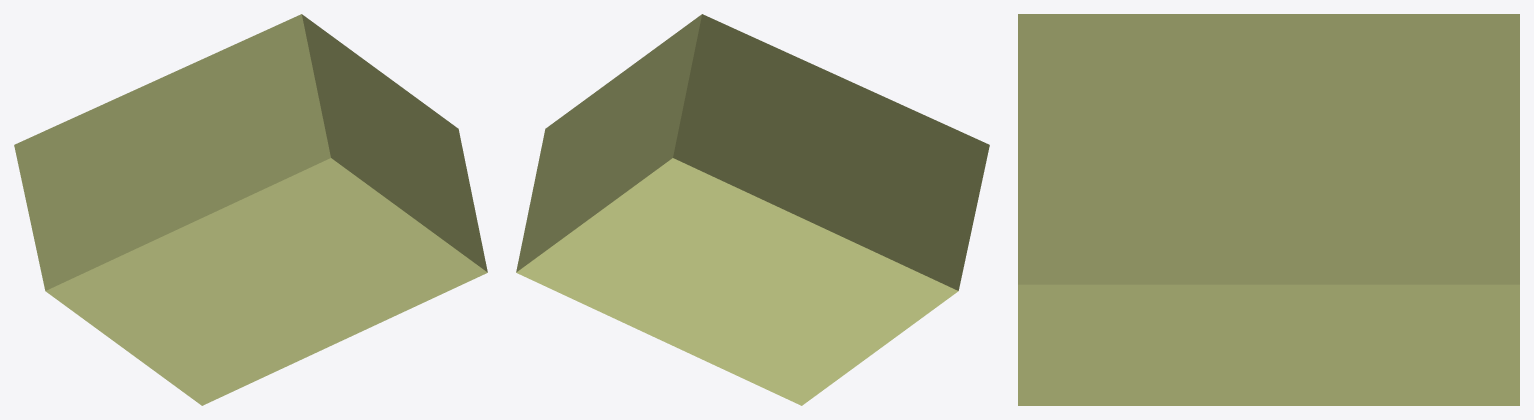
3 views of the same model, side by side, from view 1: azimuth 30°, elevation 25°; view 2: azimuth 150°, elevation 25°; view 3: azimuth 270°, elevation 25° (orthographic). The views are drawn at different scales.
Visible parts, largest first — view 1: 0_1_0_2_0_0_2_0_1_3_3; view 2: 0_1_0_2_0_0_2_0_1_3_3; view 3: 0_1_0_2_0_0_2_0_1_3_3.
Part boxes in pixels (x1,y1,x2,y2): 0_1_0_2_0_0_2_0_1_3_3: (14, 14, 487, 405); 0_1_0_2_0_0_2_0_1_3_3: (516, 14, 989, 405); 0_1_0_2_0_0_2_0_1_3_3: (1018, 14, 1519, 405).
Bounding box in the file's own units: 10.5 × 6.79 × 9.
